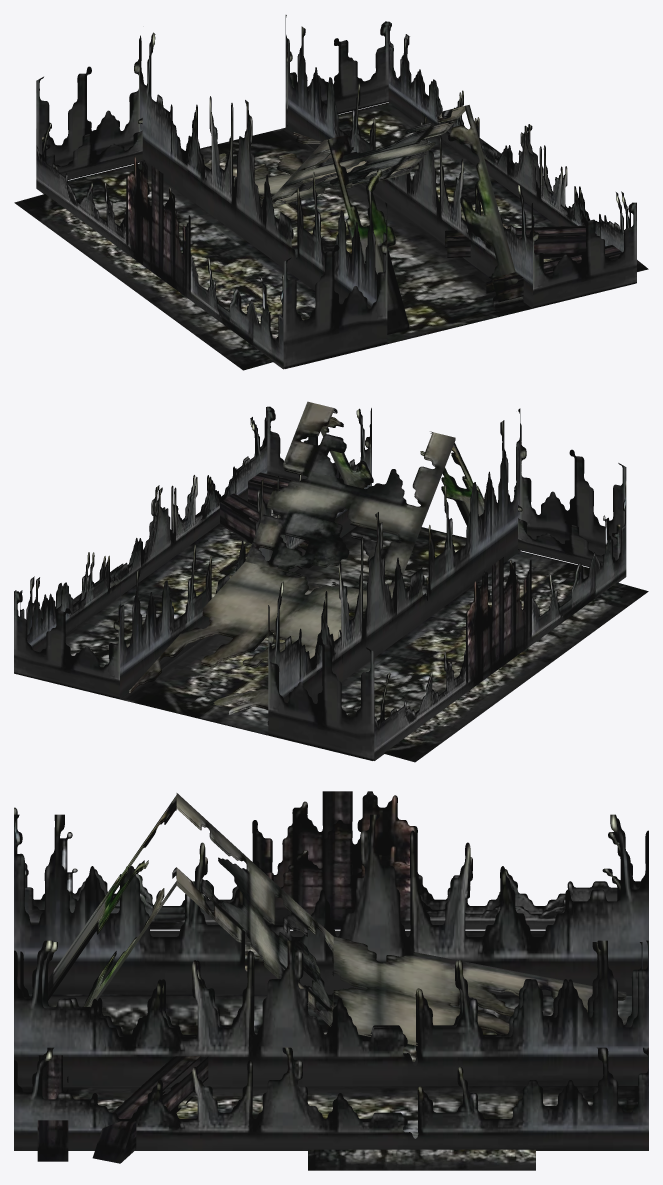
Rendered from industrialcomplex_dam_hdtex.glb.
3 renders of one model, top to bottom at view 1: azimuth 30°, elevation 25°; view 2: azimuth 150°, elevation 25°; view 3: azimuth 270°, elevation 25°, orthographic. The views are drawn at different scales.
Visible parts, largest first — view 1: Object10; view 2: Object10; view 3: Object10.
Boxes of the visible parts, bbox=[...] form: Object10: bbox=[14, 15, 648, 370]; Object10: bbox=[14, 401, 648, 762]; Object10: bbox=[14, 791, 648, 1170].
Size of the model in its own units: 24.17 by 8.84 by 24.9.
1 material, 1 textured.
